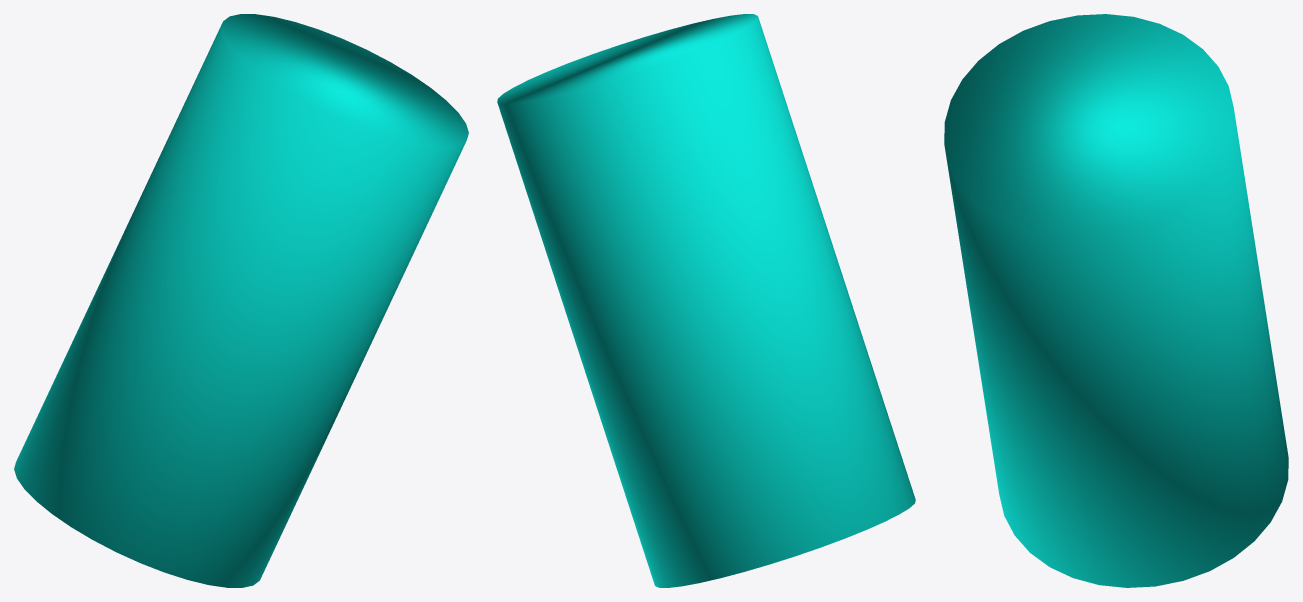
The model's file is vidas.fbx.
3 views of the same model, side by side, from view 1: azimuth 30°, elevation 25°; view 2: azimuth 150°, elevation 25°; view 3: azimuth 270°, elevation 25° (orthographic). The views are drawn at different scales.
Visible parts, largest first — view 1: Cylinder; view 2: Cylinder; view 3: Cylinder.
Part boxes in pixels (x1=…): Cylinder: x1=14, y1=14, x2=468, y2=587; Cylinder: x1=497, y1=14, x2=915, y2=587; Cylinder: x1=944, y1=14, x2=1288, y2=587.
Size of the model in its own units: 1.51 by 1.06 by 1.89.
